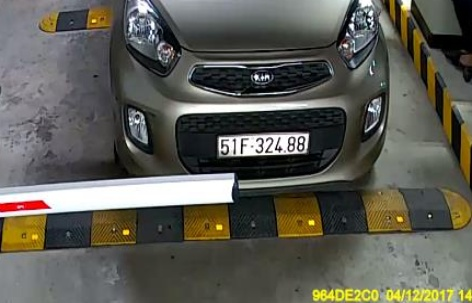plate: (215, 129, 312, 160)
